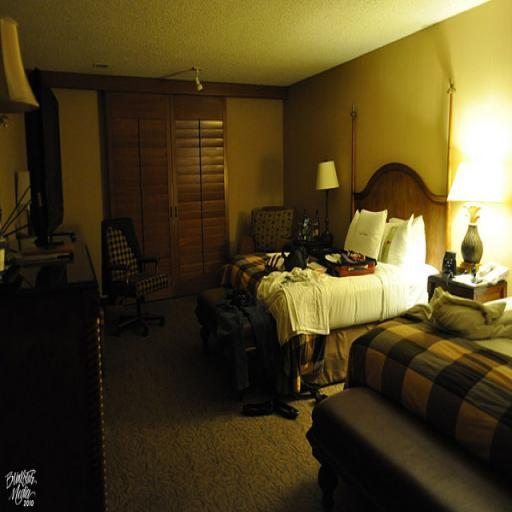bed: (178, 166, 482, 442)
